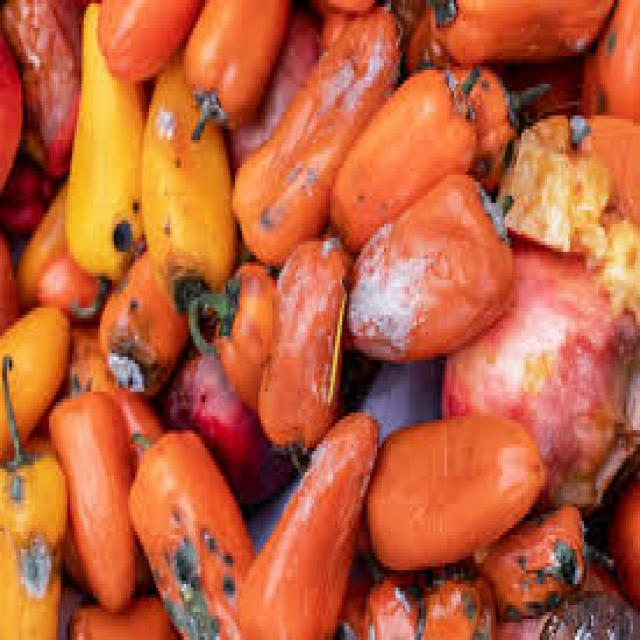organic waste: (438, 227, 638, 511), (230, 3, 402, 259), (226, 406, 372, 636), (344, 168, 512, 353), (326, 60, 482, 248), (361, 416, 542, 567), (126, 426, 256, 636), (156, 322, 300, 507), (65, 0, 147, 315), (140, 49, 235, 308), (44, 371, 138, 612), (258, 227, 342, 479), (0, 349, 65, 636), (493, 105, 605, 262), (463, 500, 612, 616), (221, 3, 319, 178), (179, 0, 288, 136), (183, 259, 274, 416), (0, 0, 79, 178), (98, 245, 191, 392), (100, 384, 163, 594), (444, 60, 547, 186), (0, 301, 70, 458), (426, 0, 612, 56), (491, 560, 624, 636), (14, 168, 67, 322), (97, 0, 207, 73), (577, 0, 637, 115), (577, 108, 638, 220), (582, 210, 638, 315), (65, 591, 186, 637), (605, 468, 638, 636), (535, 584, 638, 637), (493, 56, 582, 115), (356, 566, 424, 636), (35, 252, 107, 318), (414, 566, 480, 636), (0, 0, 23, 189), (0, 157, 54, 231), (402, 0, 452, 70), (335, 552, 372, 636), (0, 220, 16, 335), (58, 580, 84, 636), (30, 395, 58, 441)
